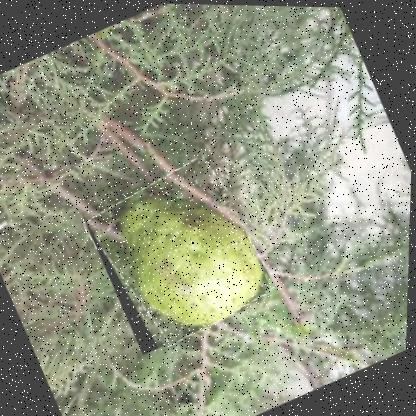guava: (80, 151, 282, 357)
